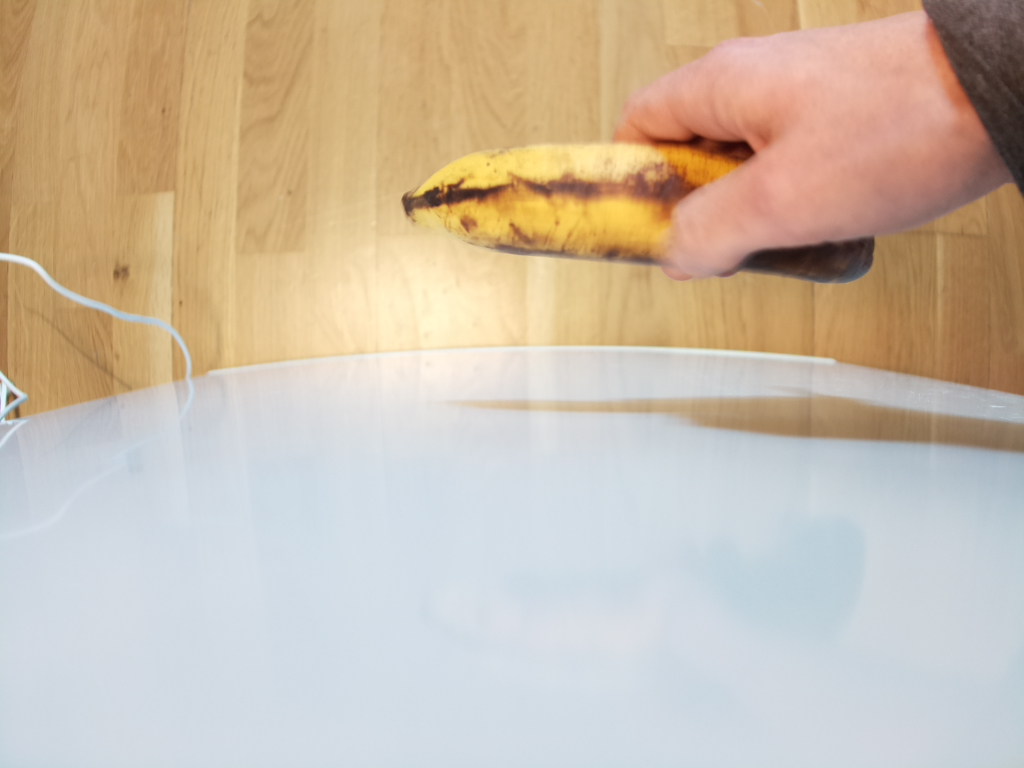banana-overripe: (401, 142, 877, 282)
